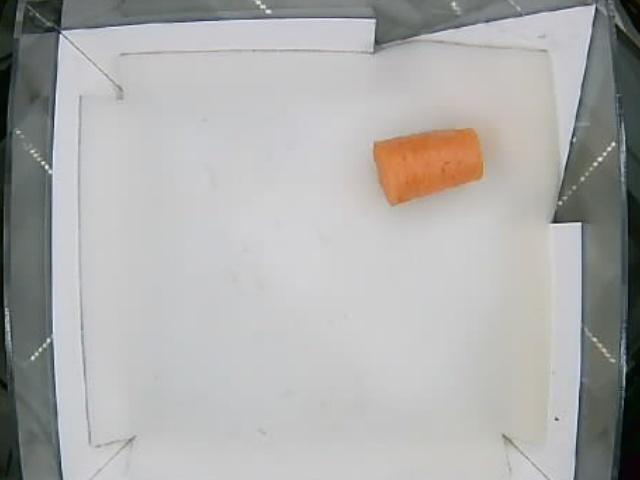Carrot: (368, 127, 484, 207)
